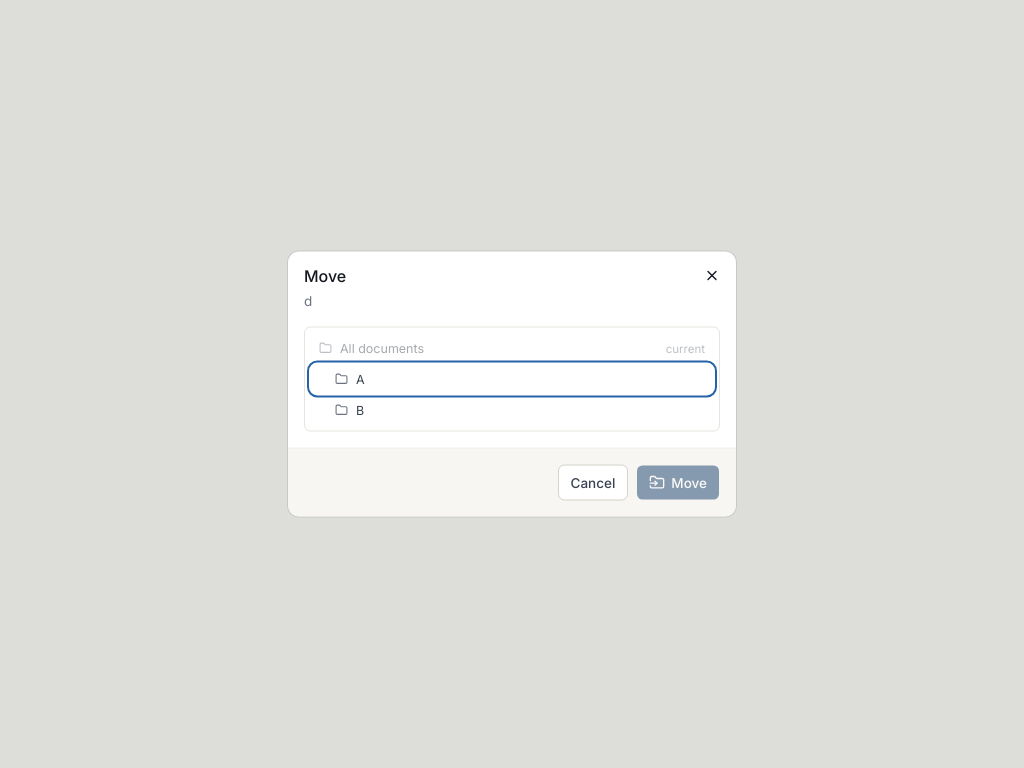
Test: MoveToFolderDialog warning › shows the warning once a target with a non-null warning is picked
Expected: the text "visible to the client" is not shown
Click the button "A" at {"x": 342, "y": 379}, box [311,364,713,394]
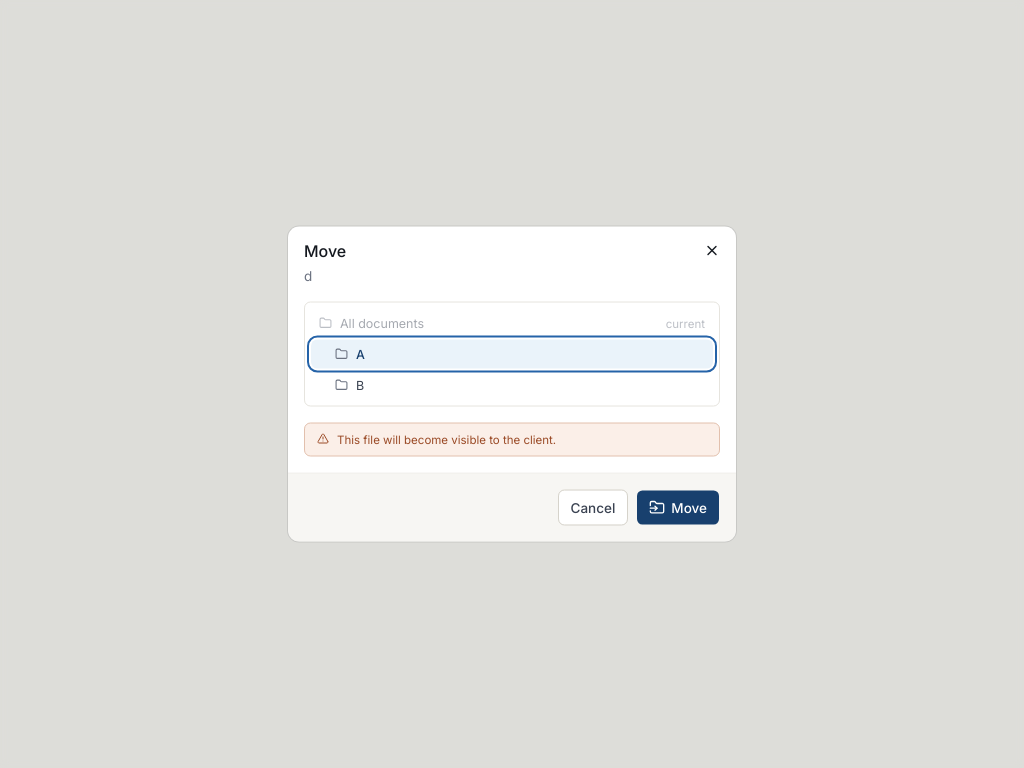
Expected: the text "This file will become visible to the client." is shown, [337,432,556,448]
Click the button "B" at {"x": 342, "y": 385}, box [311,370,713,400]
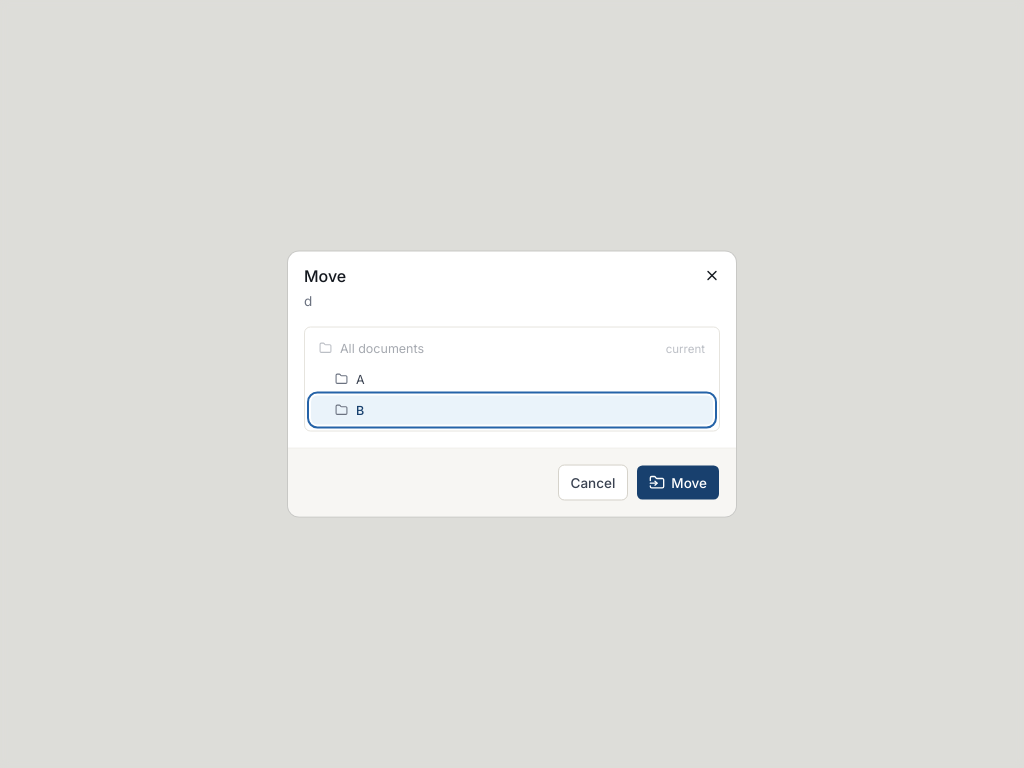
Expected: the button "Move" is enabled, [636,464,720,500]
Expected: the text "visible to the client" is gone
